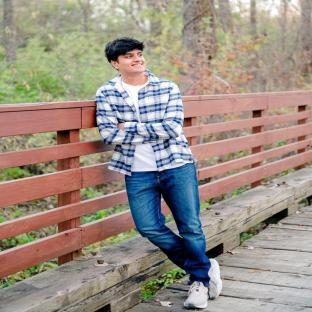Human: (96, 37, 222, 308)
